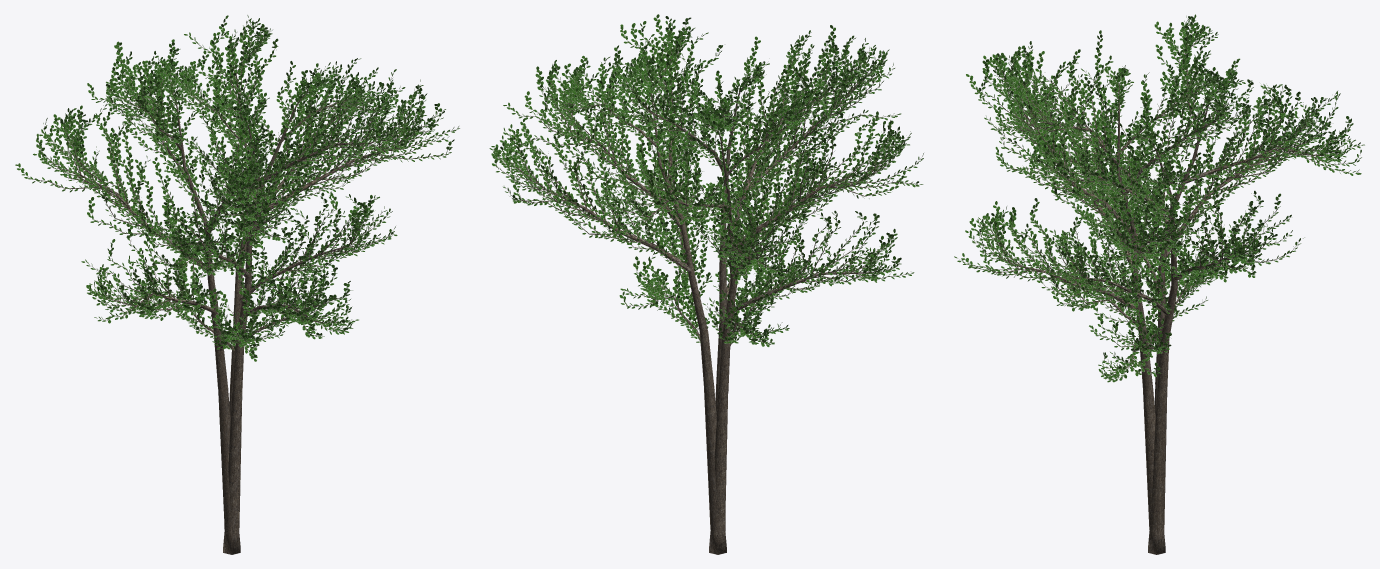
Rendered from tree.fbx.
3 renders of one model, left to right at view 1: azimuth 30°, elevation 25°; view 2: azimuth 150°, elevation 25°; view 3: azimuth 270°, elevation 25°, orthographic.
Parts seen in each view (by area): view 1: leaves, tree; view 2: leaves, tree; view 3: leaves, tree.
Part boxes in pixels (left/top/right/bottom): leaves: left=15, top=15, right=459, bottom=361; tree: left=19, top=22, right=456, bottom=554; leaves: left=489, top=14, right=923, bottom=347; tree: left=493, top=20, right=922, bottom=554; leaves: left=954, top=14, right=1364, bottom=382; tree: left=961, top=21, right=1359, bottom=554.
Bounding box in the file's own units: 2457 × 3141 × 2322.
2 materials, 2 textured.
